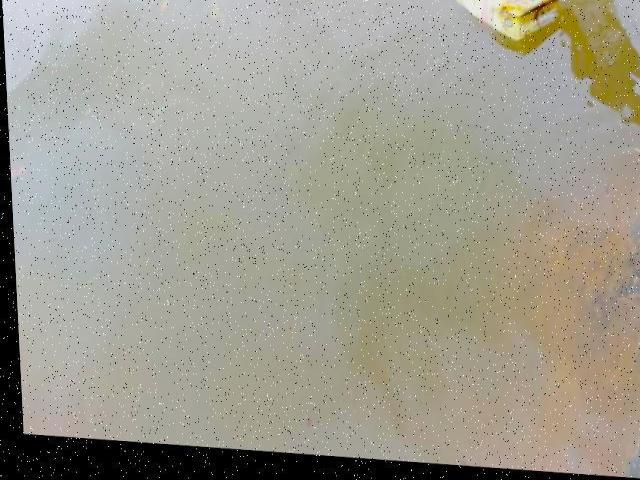Box: (441, 0, 572, 48)
